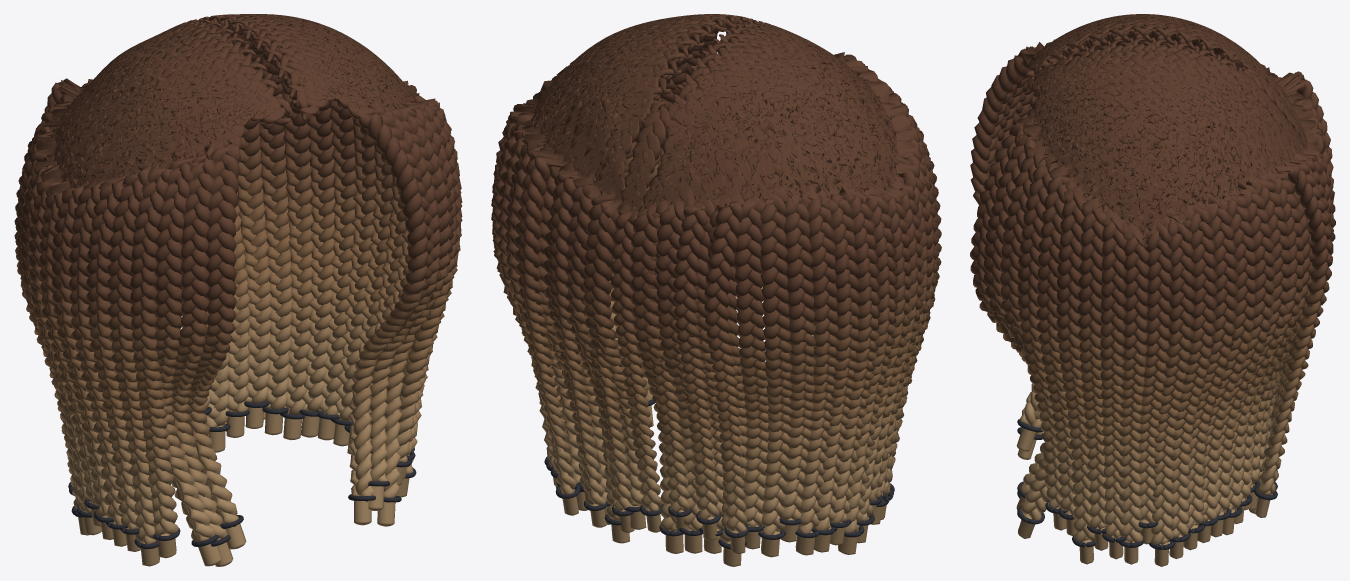
The model's file is Feminine-box-braids-headband260-hair-ombre.glb.
The picture shows the model from 3 angles, left to right: view 1: azimuth 30°, elevation 25°; view 2: azimuth 150°, elevation 25°; view 3: azimuth 270°, elevation 25°; orthographic projection. The views are drawn at different scales.
Visible parts, largest first — view 1: 226 hair / Hair / chestnut226.001, 226 hair / Hair / ties226.001; view 2: 226 hair / Hair / chestnut226.001, 226 hair / Hair / ties226.001; view 3: 226 hair / Hair / chestnut226.001, 226 hair / Hair / ties226.001.
Boxes of the visible parts, left/top/right/bottom form: 226 hair / Hair / chestnut226.001: left=14, top=14, right=462, bottom=566; 226 hair / Hair / ties226.001: left=68, top=401, right=416, bottom=548; 226 hair / Hair / chestnut226.001: left=491, top=14, right=941, bottom=566; 226 hair / Hair / ties226.001: left=544, top=399, right=894, bottom=549; 226 hair / Hair / chestnut226.001: left=970, top=14, right=1335, bottom=566; 226 hair / Hair / ties226.001: left=1017, top=419, right=1277, bottom=549.
Size of the model in its own units: 1.07 by 1.23 by 0.8719.
